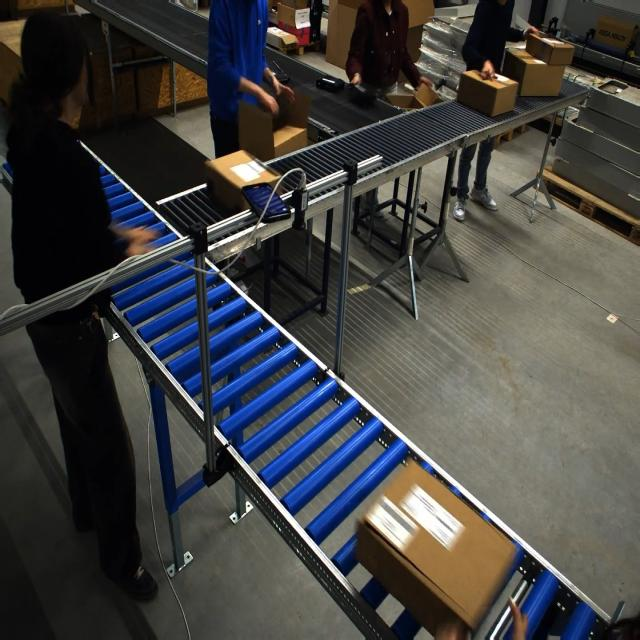box: (358, 460, 515, 638), (234, 86, 309, 162), (205, 149, 289, 215), (502, 49, 566, 98), (456, 69, 518, 118), (523, 31, 576, 66)
product: (269, 64, 290, 85)
